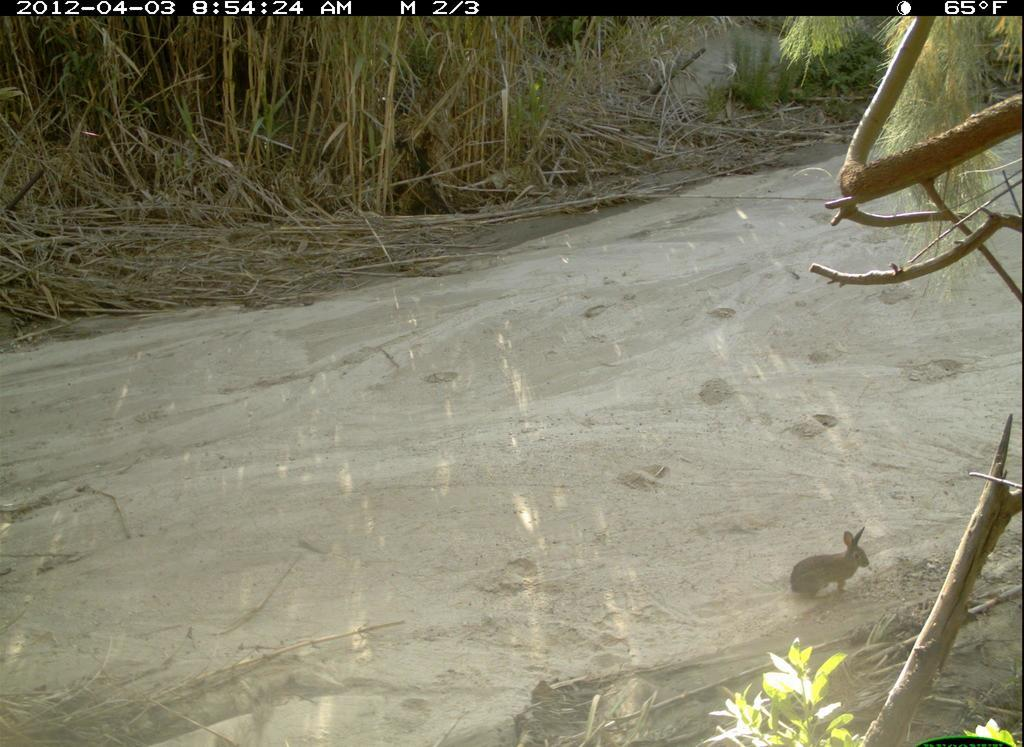rabbit: (786, 523, 882, 611)
